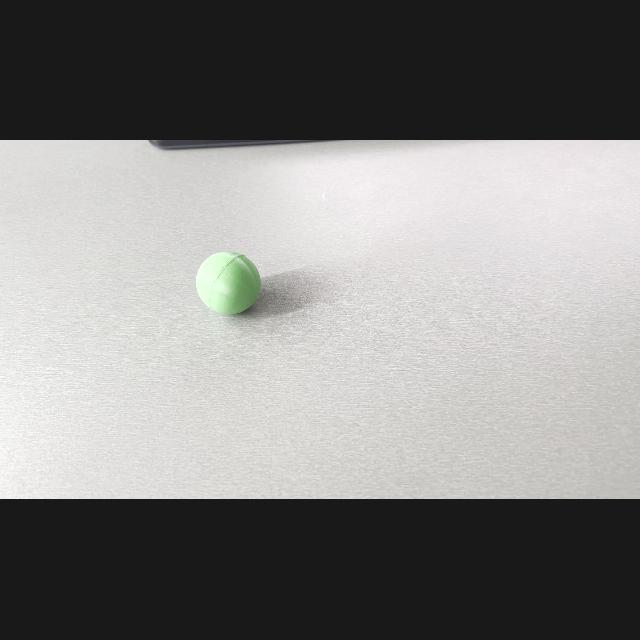objects: (190, 245, 268, 325)
